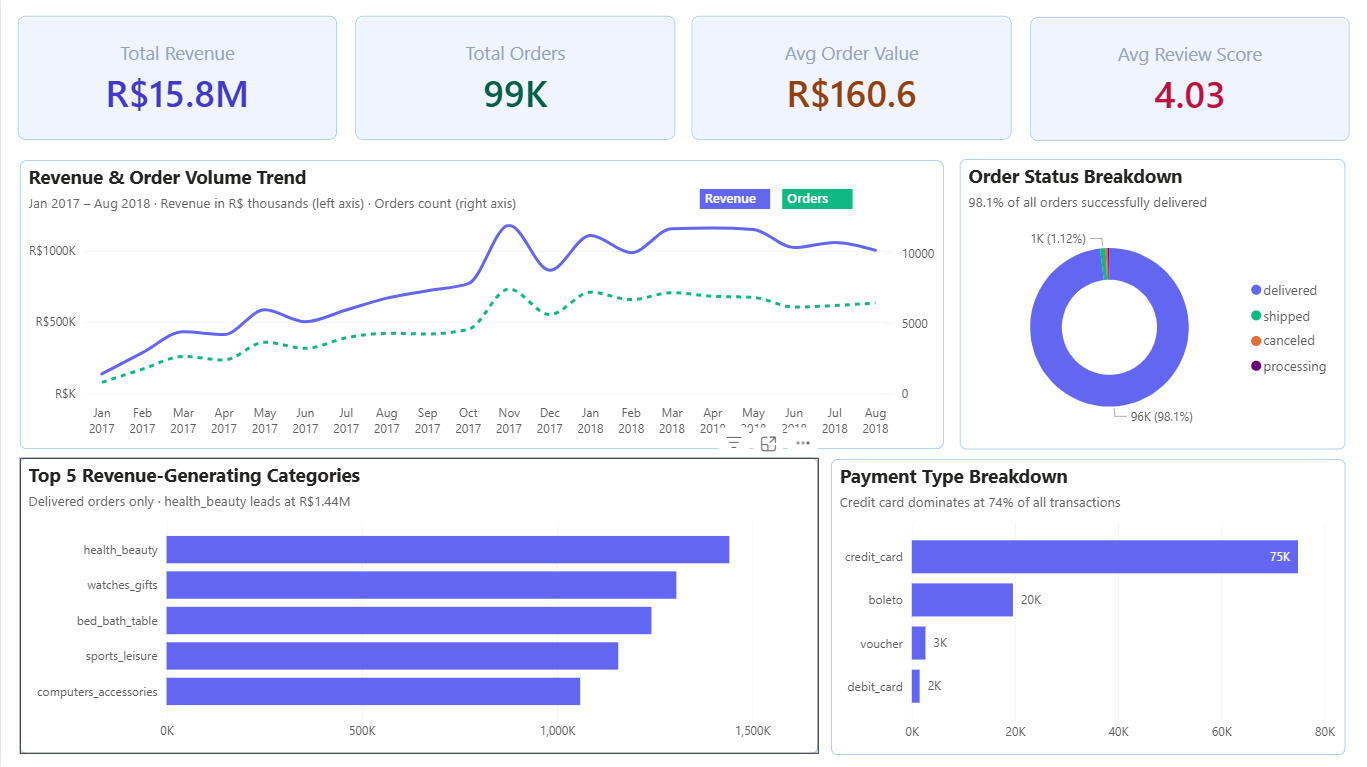

What the dashboard file says about the page in this screenshot:
{"tool":"powerbi","page":{"name":"Executive Overview","canvas":[1366,768],"ordinal":0},"visuals":[{"type":"cardVisual","fields":{"Data":["_Measures.Total Revenue"]},"box":[0,0,353.8,158.8],"z":0},{"type":"cardVisual","fields":{"Data":["_Measures.Total Orders"]},"box":[337,0,354,158.6],"z":1000},{"type":"cardVisual","fields":{"Data":["_Measures.Avg Order Value"]},"box":[674.2,0,354,158.6],"z":2000},{"type":"cardVisual","fields":{"Data":["_Measures.Avg Review Score"]},"box":[1012.6,1.3,353.4,158.4],"z":3000},{"type":"lineChart","title":"Revenue & Order Volume Trend","fields":{"Y":["_Measures.Total Revenue"],"Y2":["_Measures.Total Orders"],"Category":["olist_data.Month-Year"]},"box":[18.6,161.4,924.3,288.6],"z":4000},{"type":"textbox","title":"Revenue","box":[698.3,190,70,20],"z":5000},{"type":"textbox","title":"Orders","box":[781.7,190,70,20],"z":6000},{"type":"donutChart","title":"Order Status Breakdown","fields":{"Category":["olist_data.order_status"],"Y":["_Measures.Total Orders"]},"box":[958.6,160,385.7,290],"z":7000},{"type":"clusteredBarChart","title":"Top 5 Revenue-Generating Categories","fields":{"Y":["_Measures.Total Revenue"],"Category":["olist_data.product_category"]},"box":[18.6,459.1,798.8,295.9],"z":8000},{"type":"clusteredBarChart","title":"Payment Type Breakdown","fields":{"Category":["olist_data.payment_type"],"Y":["_Measures.Total Orders"]},"box":[830.3,459.8,514,295.8],"z":9000}]}

Visuals, with their boxes in screenshot pixels (x1, y1, x2, y2), scaled from the page's 1366x768 canvas onto the 1367x767 screenshot:
cardVisual - _Measures.Total Revenue: 0, 0, 354, 159
cardVisual - _Measures.Total Orders: 337, 0, 692, 158
cardVisual - _Measures.Avg Order Value: 675, 0, 1029, 158
cardVisual - _Measures.Avg Review Score: 1013, 1, 1366, 159
"Revenue & Order Volume Trend" lineChart: 19, 161, 944, 449
"Revenue" textbox: 699, 190, 769, 210
"Orders" textbox: 782, 190, 852, 210
"Order Status Breakdown" donutChart: 959, 160, 1345, 449
"Top 5 Revenue-Generating Categories" clusteredBarChart: 19, 459, 818, 754
"Payment Type Breakdown" clusteredBarChart: 831, 459, 1345, 755
